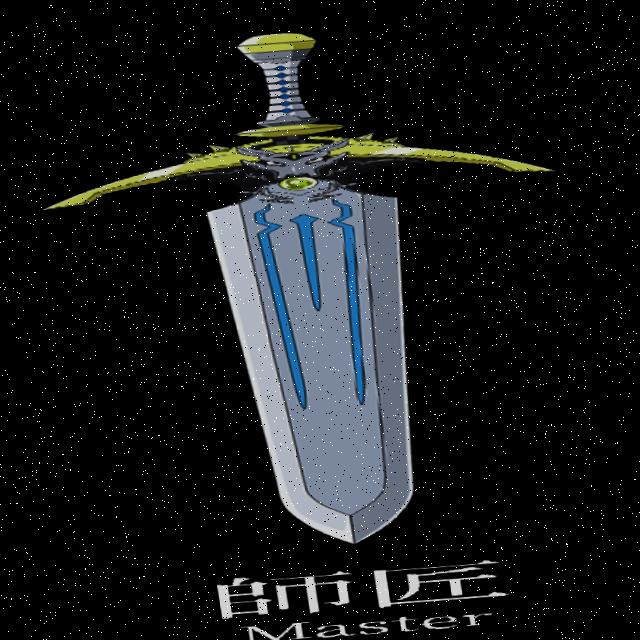knife: (8, 0, 640, 590)
